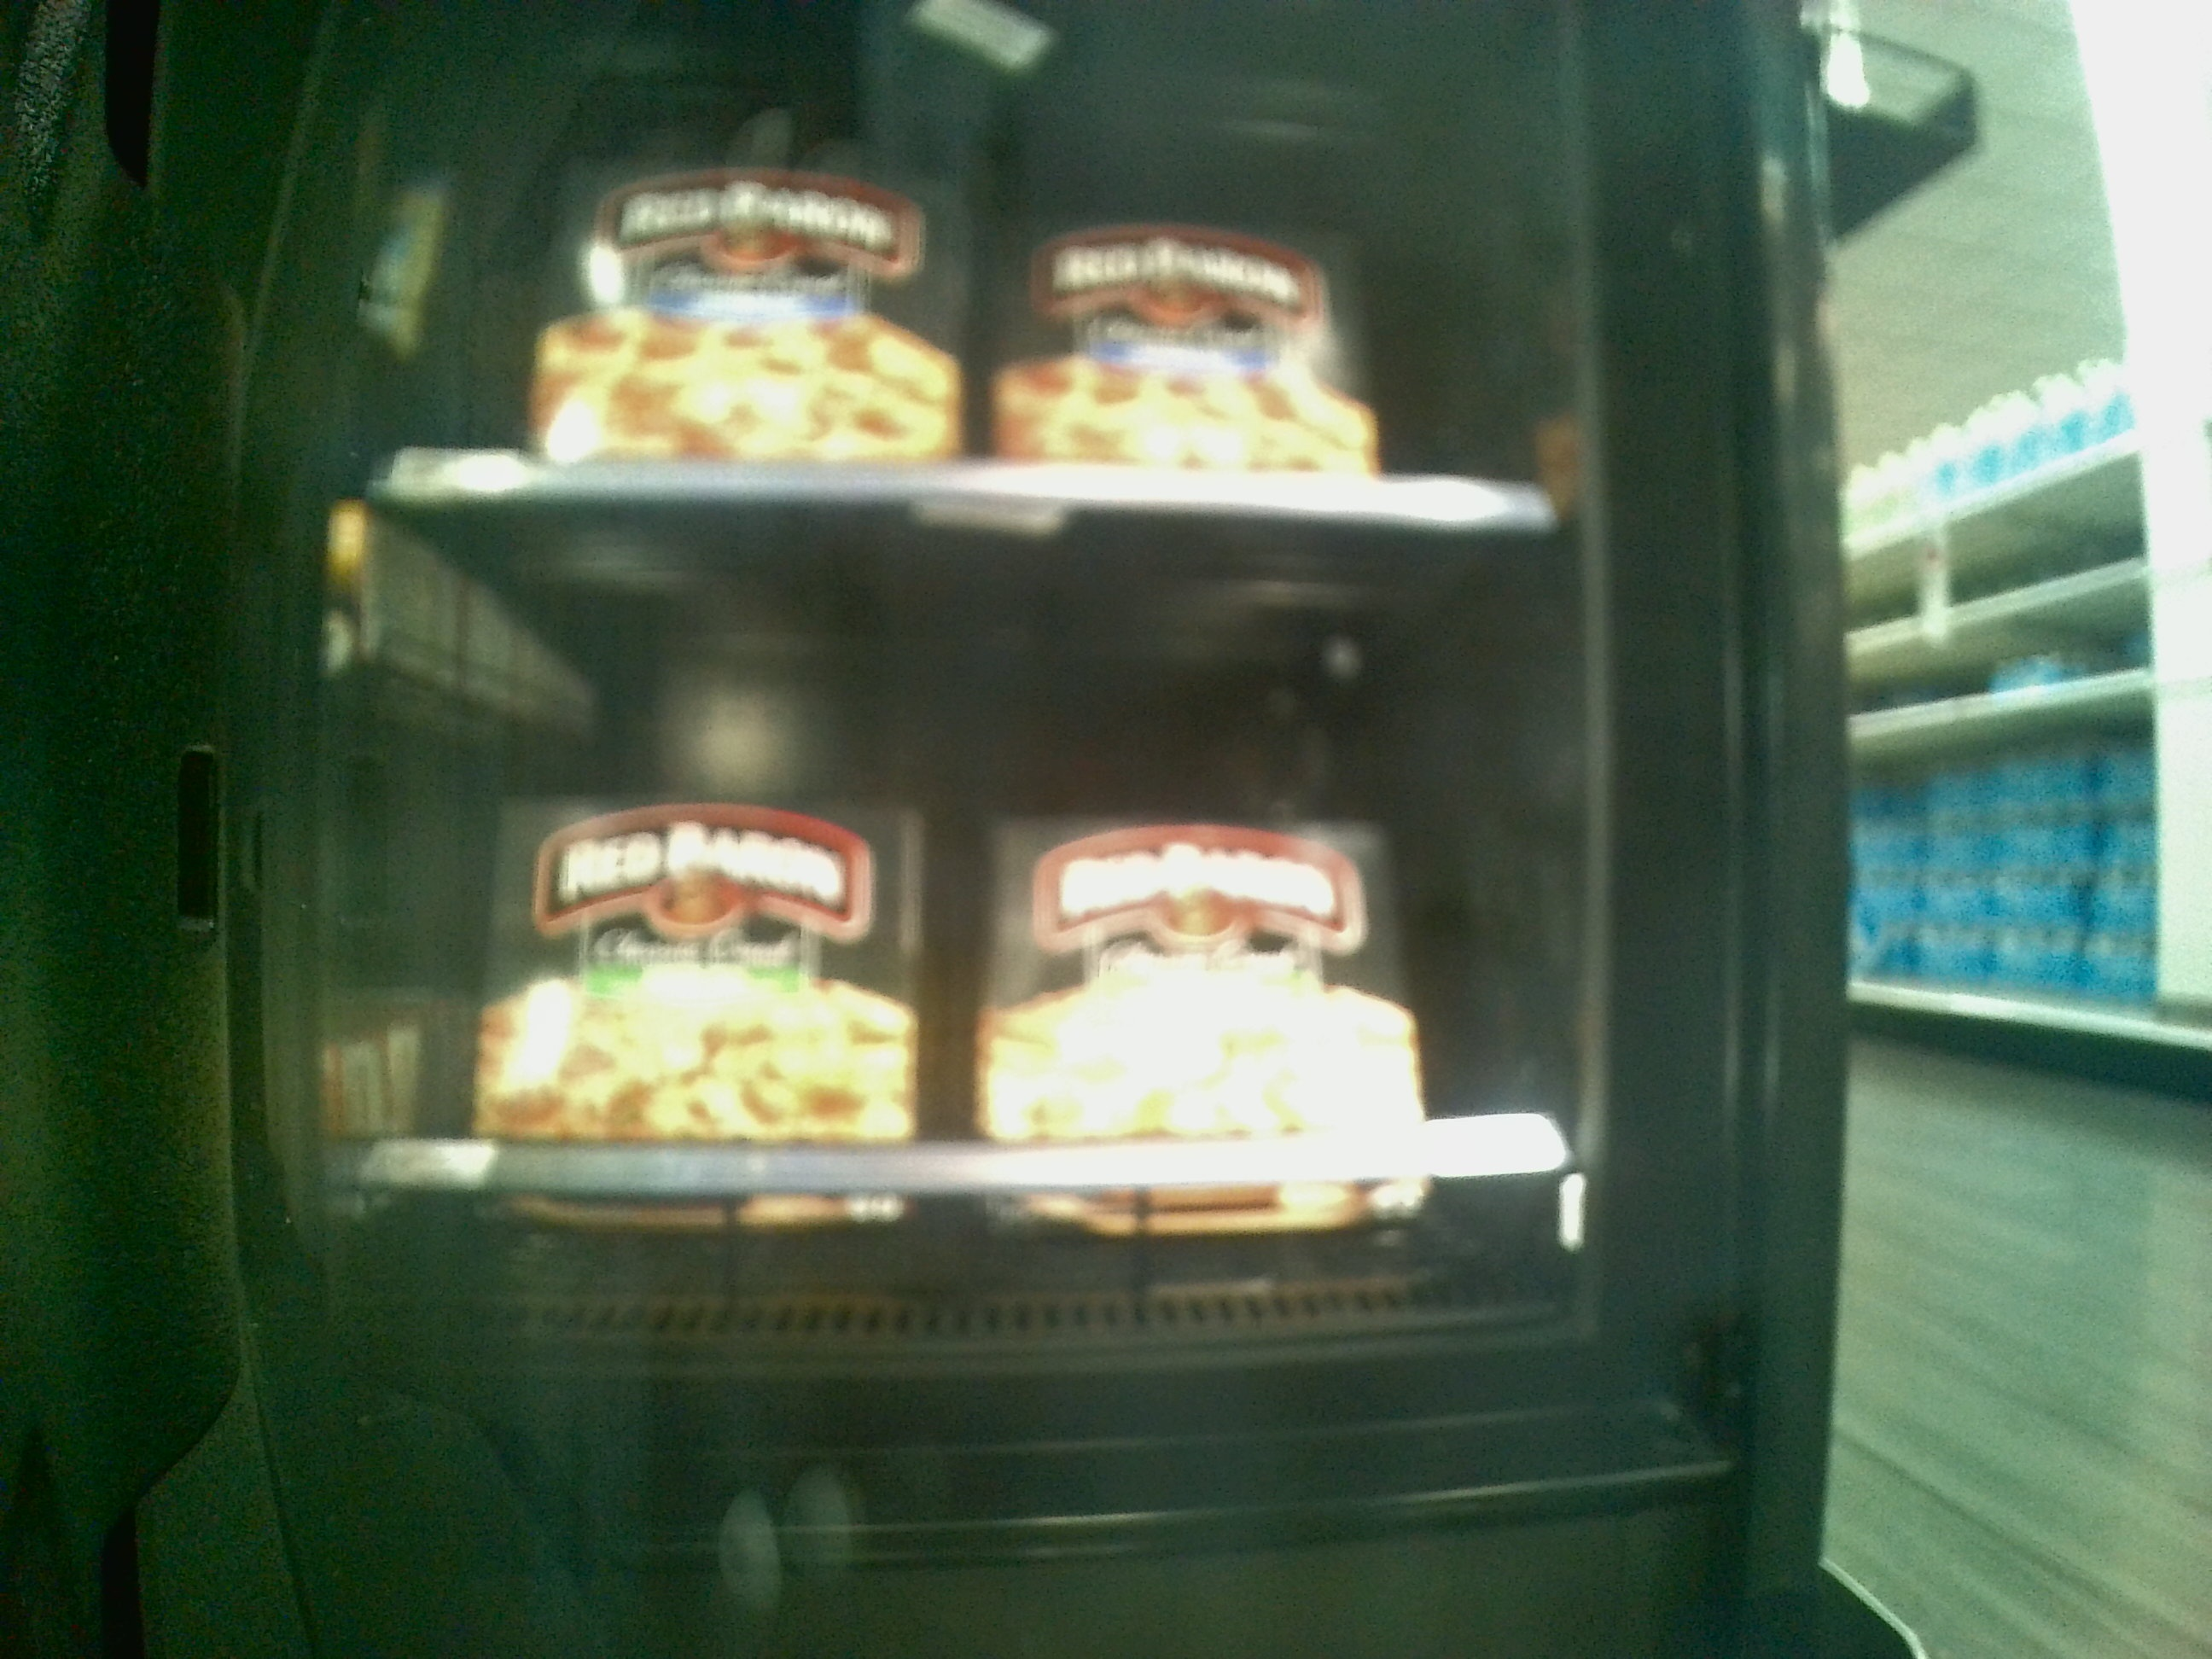shelf: (378, 505, 1566, 1284), (359, 9, 1569, 502)
